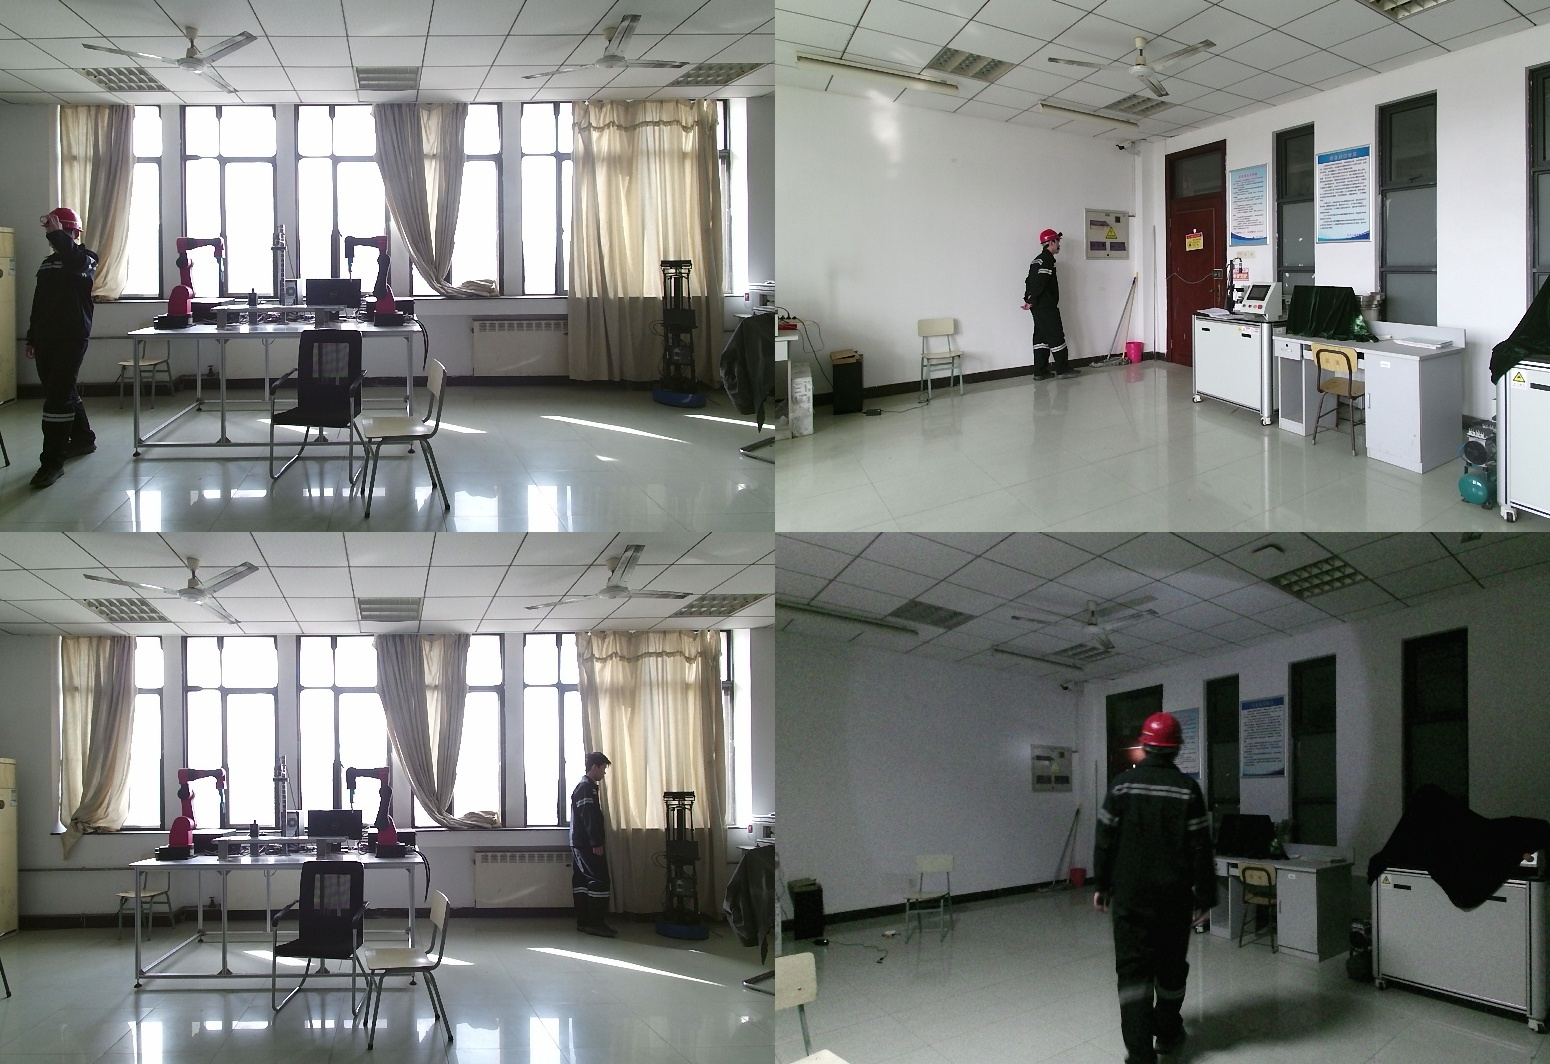person: (1088, 710, 1227, 1064), (25, 210, 101, 489), (571, 753, 636, 942), (1021, 229, 1064, 385)
